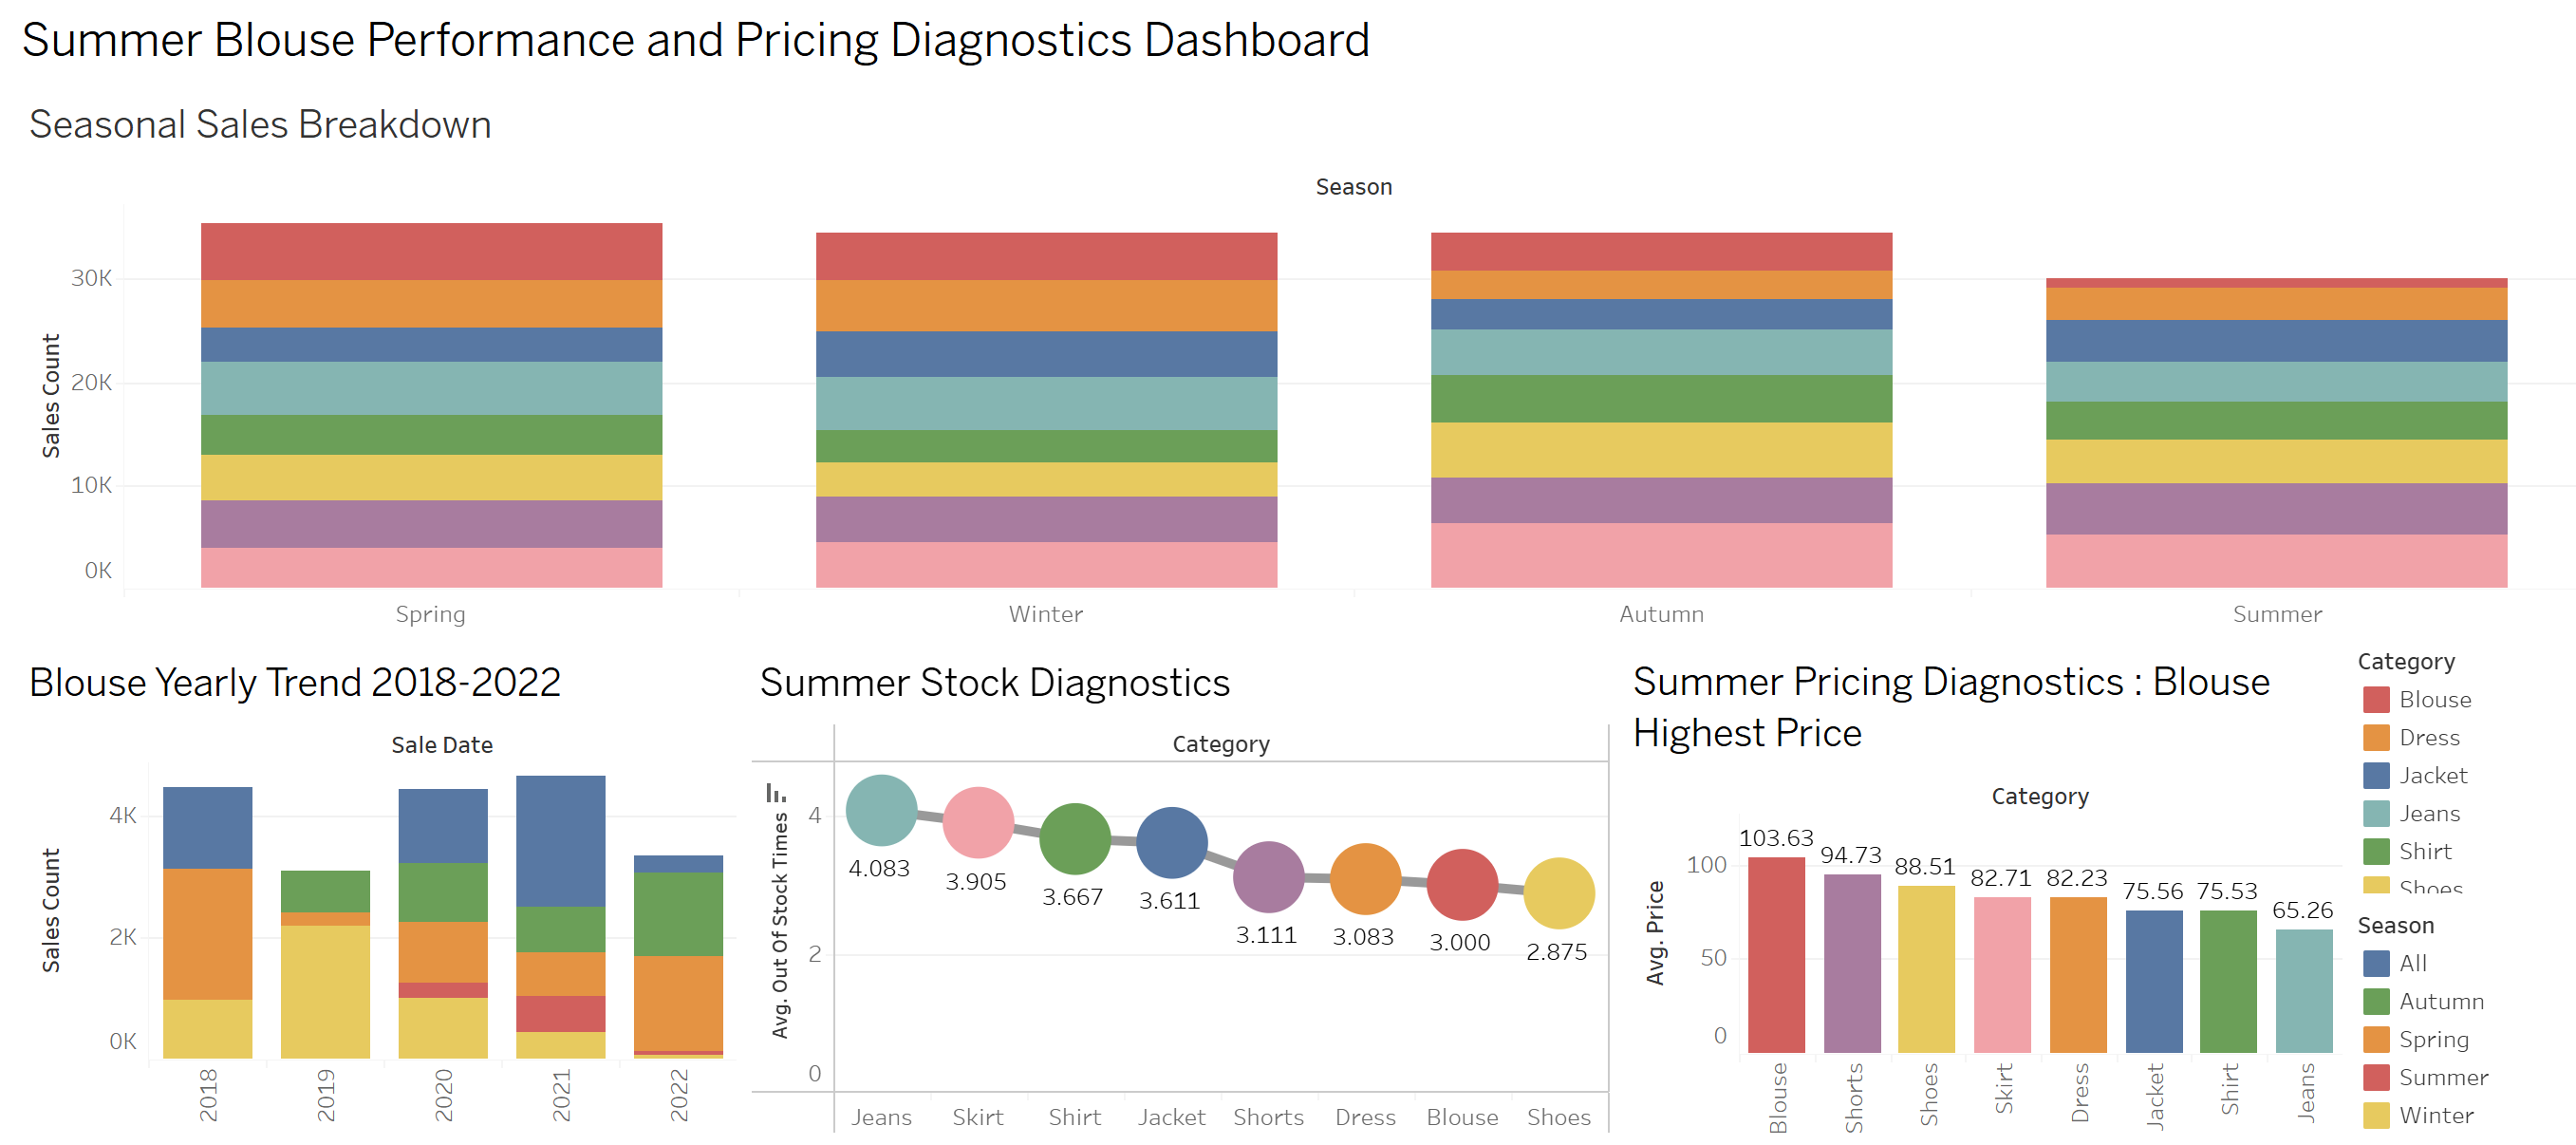

This screenshot's page, from the dashboard's own definition file:
{"tool":"tableau","page":{"name":"Seasonal Sales & Pricing Diagnostics","canvas":[1000,1000],"units":"permille","ordinal":0},"visuals":[{"type":"title","box":[6.5,11.2,987,54.5]},{"type":"worksheet","title":"Seasonal Sales Breakdown","mark":"Automatic","rows":["sales_count"],"cols":["season"],"box":[6.5,65.6,987,485.3]},{"type":"worksheet","title":"Blouse Yearly Trend 2018-2022","mark":"Bar","rows":["sales_count"],"cols":["Calculation_2096778755674113"],"box":[6.5,551,275.8,437.9]},{"type":"worksheet","title":"Summer Stock Diagnostics","mark":"Line","rows":["out_of_stock_times","out_of_stock_times"],"cols":["category"],"box":[282.3,551,330.4,437.9]},{"type":"worksheet","title":"Summer Pricing Diagnostics : Blouse Highest Price","mark":"Automatic","rows":["price"],"cols":["category"],"box":[612.7,551,276.7,437.9]},{"type":"legend","title":"Seasonal Sales Breakdown","param":"[federated.0n2efhj1t6gp0c1atgm5l0fe84ks].[none:category:nk]","box":[889.3,551,104.2,259.8]},{"type":"legend","title":"Blouse Yearly Trend 2018-2022","param":"[federated.0n2efhj1t6gp0c1atgm5l0fe84ks].[none:season:nk]","box":[889.3,810.7,104.2,176]}]}

Visuals, with their boxes on the dashboard's canvas, which has no fixed pixel size, in thousandths of its width and height (x1, y1, x2, y2). These are canvas units, not pixel positions in the 2576x1145 screenshot, which may show the page scaled, cropped or inside an application window:
title: x1=6, y1=11, x2=994, y2=66
"Seasonal Sales Breakdown" worksheet: x1=6, y1=66, x2=994, y2=551
"Blouse Yearly Trend 2018-2022" worksheet (Bar marks): x1=6, y1=551, x2=282, y2=989
"Summer Stock Diagnostics" worksheet (Line marks): x1=282, y1=551, x2=613, y2=989
"Summer Pricing Diagnostics : Blouse Highest Price" worksheet: x1=613, y1=551, x2=889, y2=989
"Seasonal Sales Breakdown" legend: x1=889, y1=551, x2=994, y2=811
"Blouse Yearly Trend 2018-2022" legend: x1=889, y1=811, x2=994, y2=987
